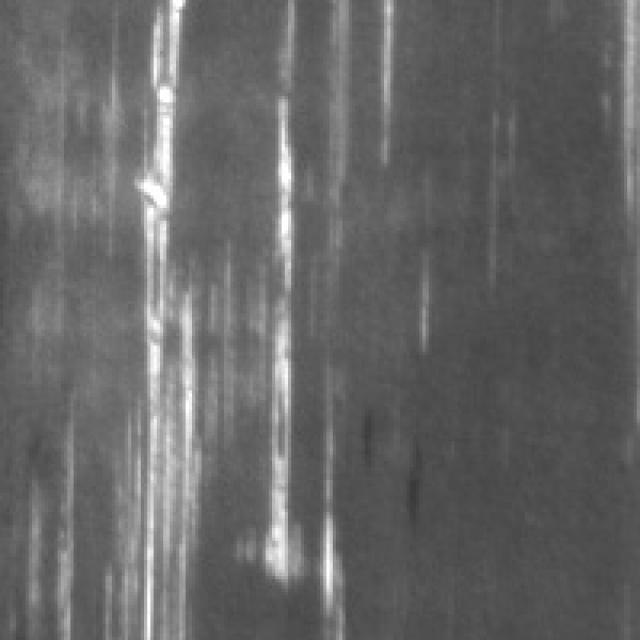scratches: (105, 0, 195, 630), (244, 87, 342, 596)
